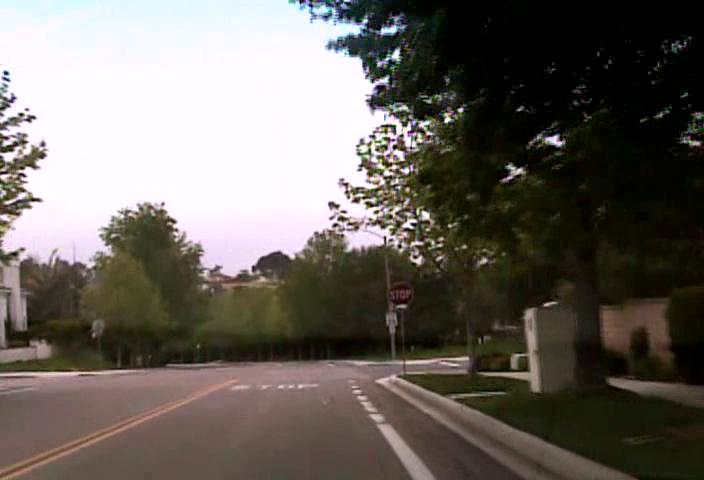stop: (387, 281, 413, 306)
